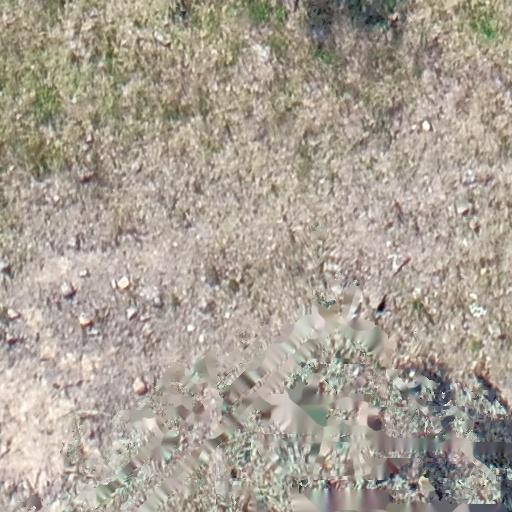stone: (60, 280, 78, 299), (132, 376, 148, 395), (77, 312, 94, 327), (456, 202, 472, 216), (6, 307, 21, 321), (126, 306, 138, 320), (421, 119, 433, 132), (68, 237, 80, 250), (116, 278, 130, 288), (78, 268, 90, 278), (110, 278, 118, 290)
